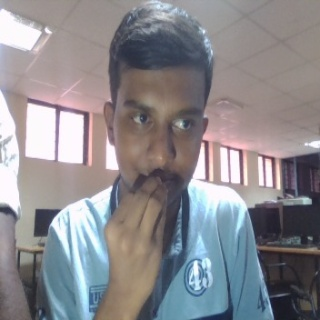Food: (101, 174, 171, 312)
